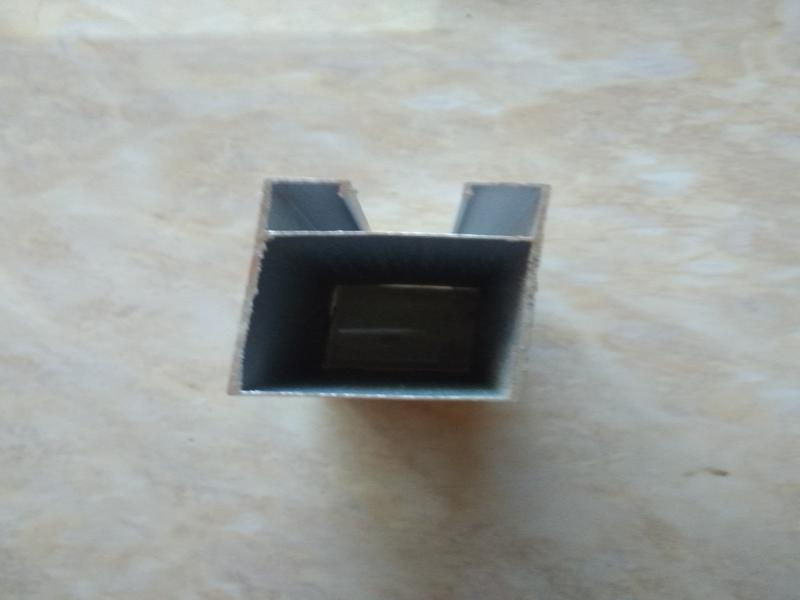Aluminium_1: (223, 142, 566, 442)
